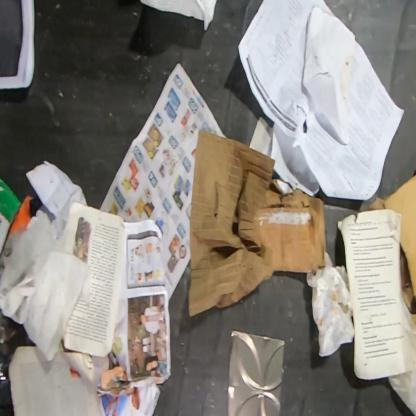cardboard: (187, 130, 326, 318), (364, 166, 415, 332), (4, 196, 44, 249), (0, 178, 23, 255)
metal: (227, 328, 285, 415)
